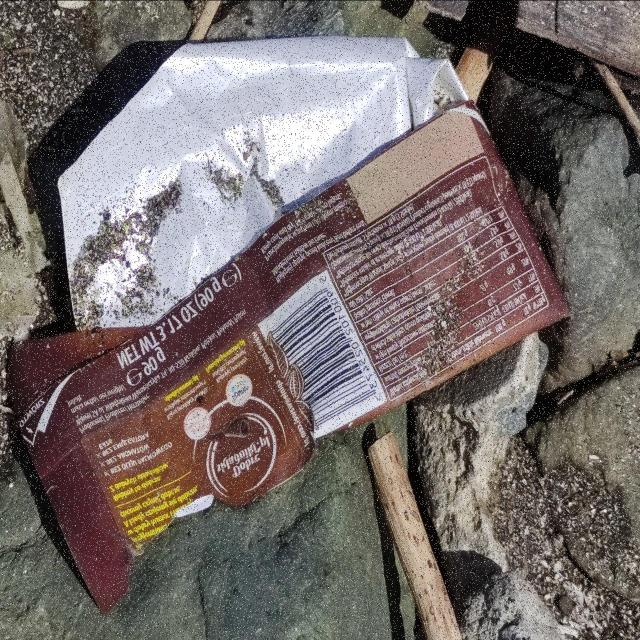plastic_waste: (5, 32, 575, 623)
